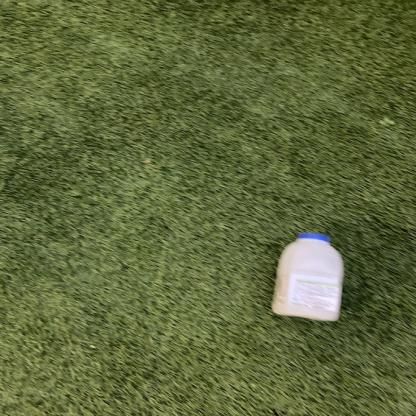trash: (270, 232, 348, 326)
